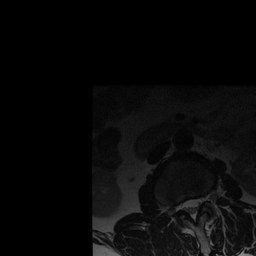CCS_normal: (189, 192, 197, 224)
LFS_stenosis: (202, 190, 208, 205)
LLS_normal: (197, 193, 203, 212)
RFS_stenosis: (174, 198, 182, 216)
RLS_normal: (182, 195, 188, 215)
